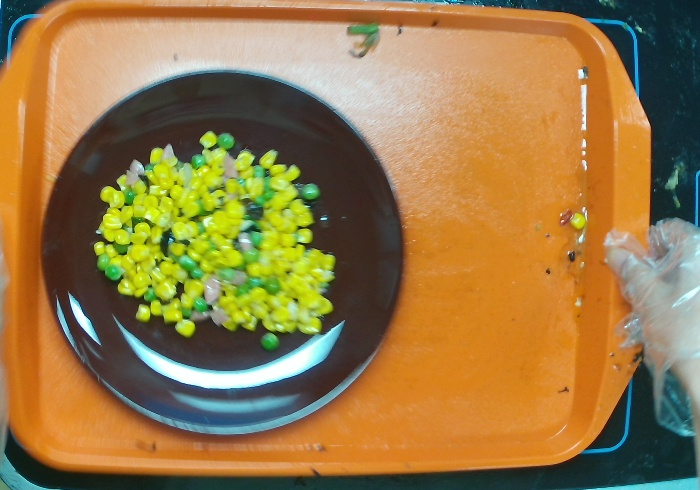HZYJPL-Ka_Fei_Yuan_Pan: (41, 68, 403, 438)
